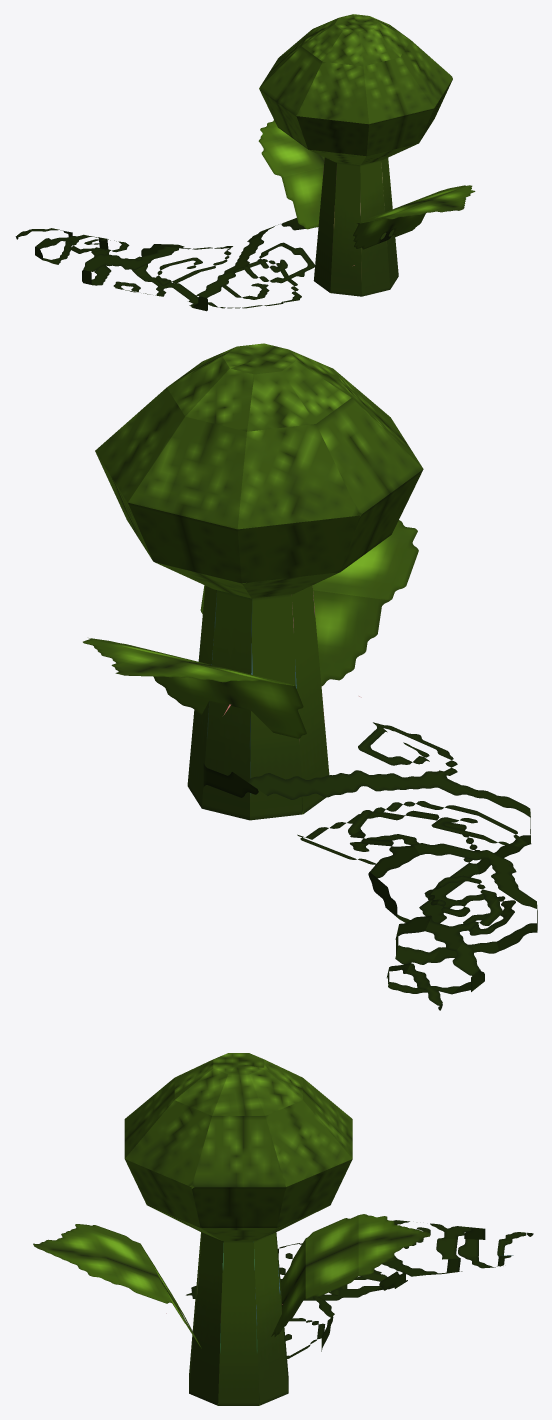
File: Spade Melon Stage 2.fbx
The picture shows the model from 3 angles, top to bottom: view 1: azimuth 30°, elevation 25°; view 2: azimuth 150°, elevation 25°; view 3: azimuth 270°, elevation 25°; orthographic projection. The views are drawn at different scales.
Parts seen in each view (by area): view 1: MelonStage2; view 2: MelonStage2; view 3: MelonStage2.
Part boxes in pixels (x1,y1,x2,y2): MelonStage2: [15, 14, 475, 311]; MelonStage2: [83, 343, 537, 1010]; MelonStage2: [33, 1053, 533, 1405].
Size of the model in its own units: 54.91 by 40.63 by 59.16.
Materials: 1 (1 with a texture image).
